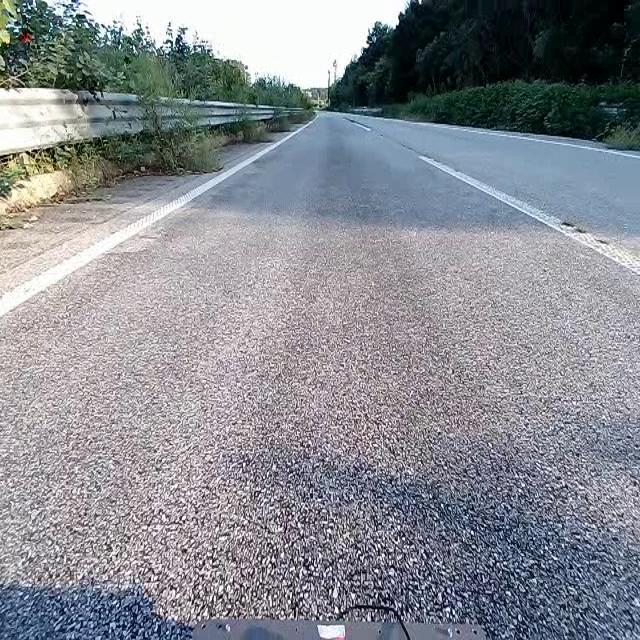Lane: (0, 98, 323, 320), (0, 115, 318, 317), (337, 100, 640, 285), (403, 145, 639, 275), (441, 124, 639, 159), (342, 117, 370, 131)
